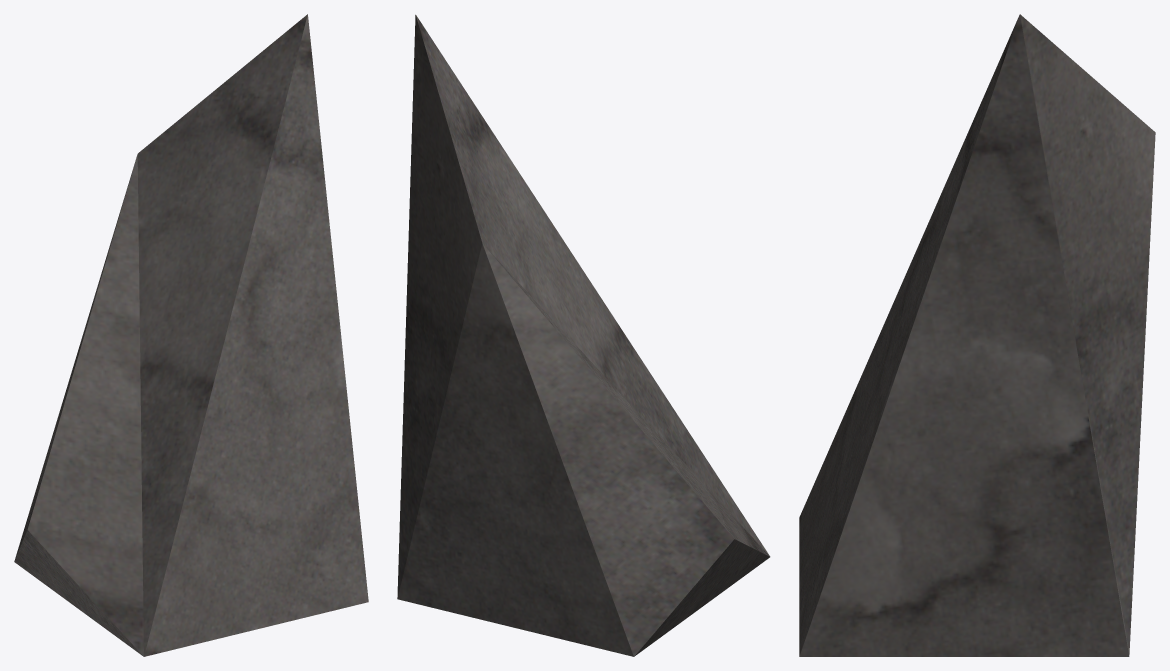
Rendered from rock2.glb.
3 views of the same model, side by side, from view 1: azimuth 30°, elevation 25°; view 2: azimuth 150°, elevation 25°; view 3: azimuth 270°, elevation 25° (orthographic). The views are drawn at different scales.
Visible parts, largest first — view 1: Rock2; view 2: Rock2; view 3: Rock2.
Boxes of the visible parts, x1=… form: Rock2: x1=14, y1=14, x2=368, y2=656; Rock2: x1=397, y1=14, x2=770, y2=656; Rock2: x1=799, y1=14, x2=1155, y2=656.
Bounding box in the file's own units: 2.6 × 4.41 × 2.16.
1 material, 1 textured.
